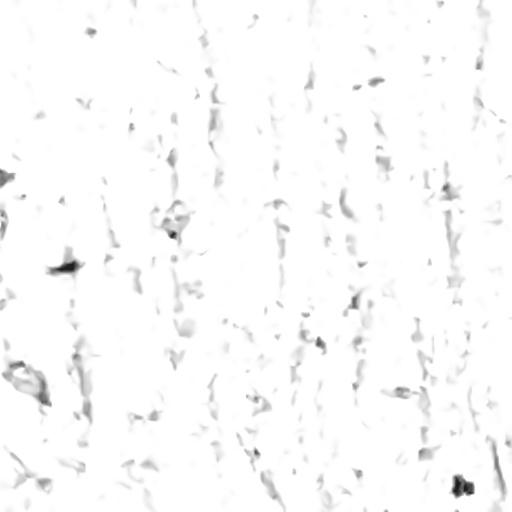egg: (48, 259, 80, 272)
